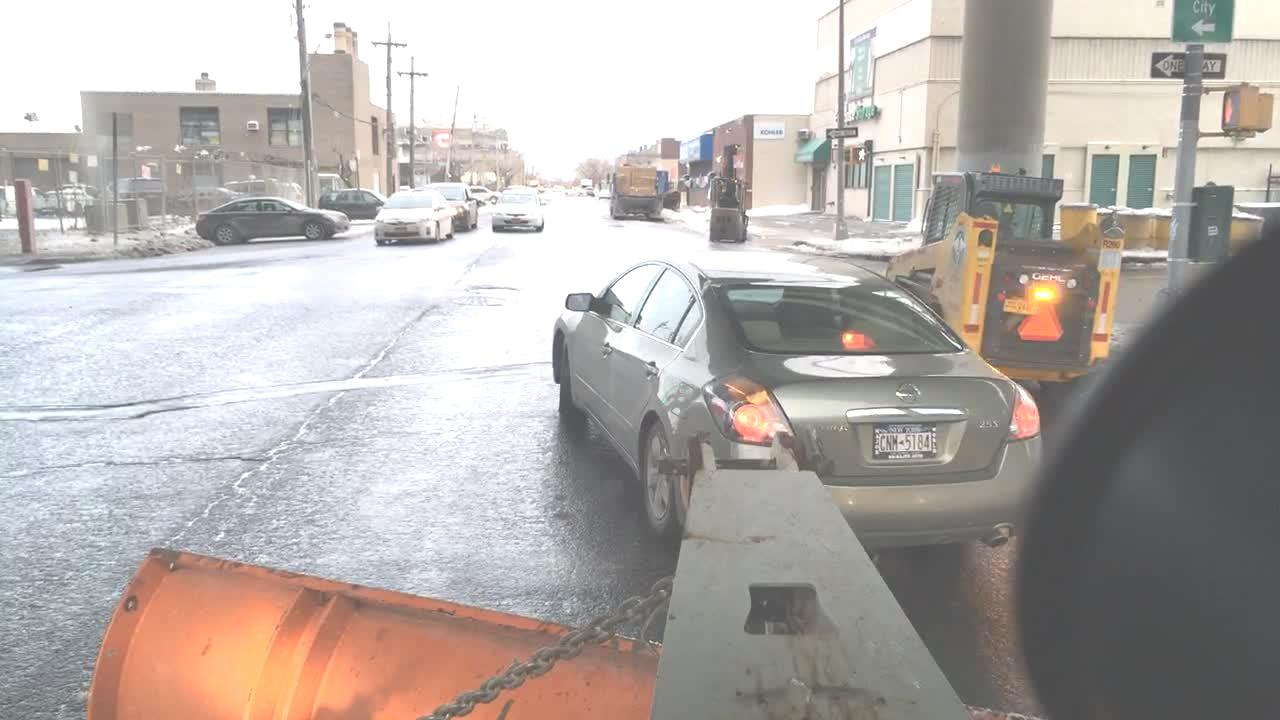Nissan: (894, 378, 922, 405)
